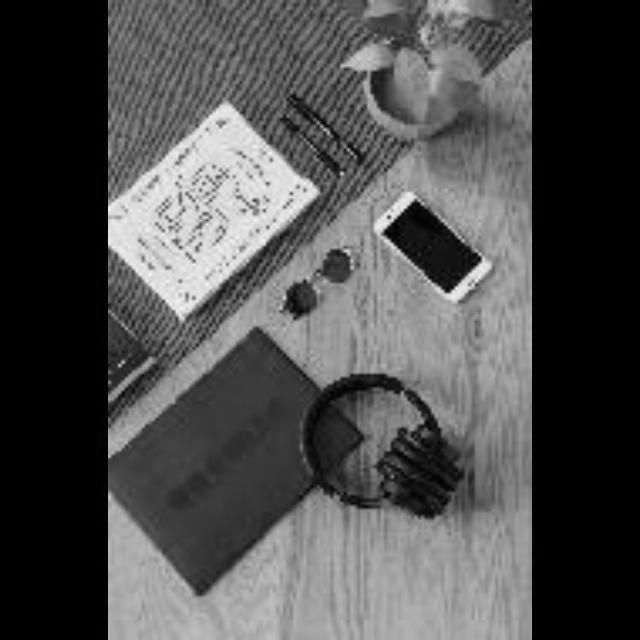fake: (382, 202, 485, 290)
